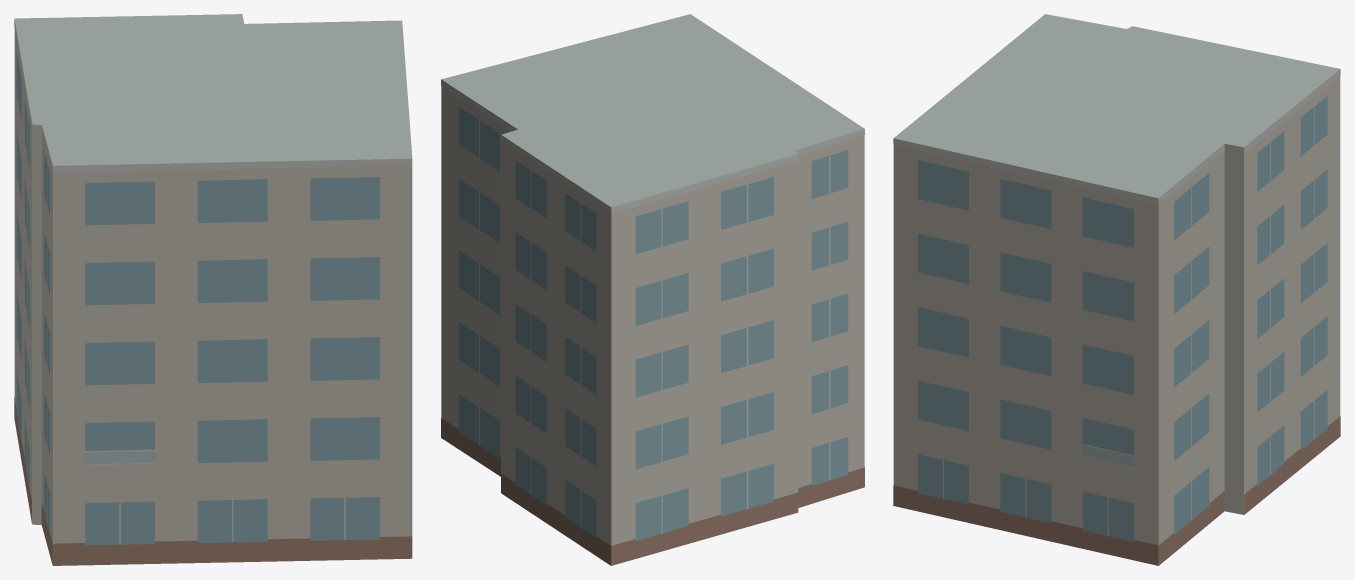
File: survey-upis-32890972.glb
The picture shows the model from 3 angles, left to right: view 1: azimuth 30°, elevation 25°; view 2: azimuth 150°, elevation 25°; view 3: azimuth 270°, elevation 25°; orthographic projection. The views are drawn at different scales.
Parts seen in each view (by area): view 1: survey-upis-32890972.tmp; view 2: survey-upis-32890972.tmp; view 3: survey-upis-32890972.tmp.
Boxes of the visible parts, bbox=[...] form: survey-upis-32890972.tmp: bbox=[14, 14, 412, 565]; survey-upis-32890972.tmp: bbox=[441, 14, 864, 565]; survey-upis-32890972.tmp: bbox=[893, 14, 1340, 565].
Bounding box in the file's own units: 15.17 × 14.1 × 15.55.
